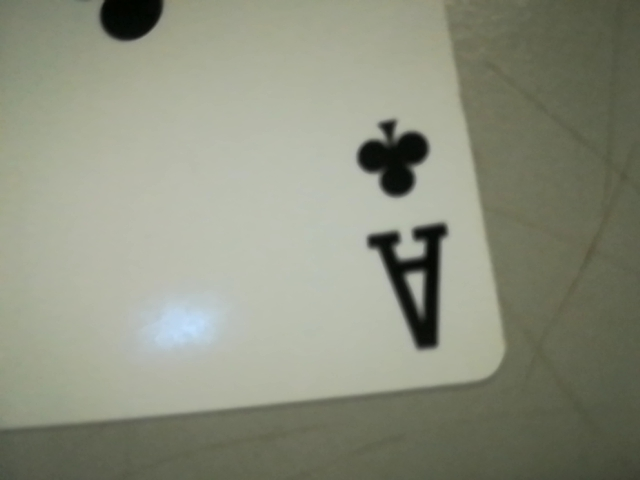mh a: (323, 99, 475, 369)
